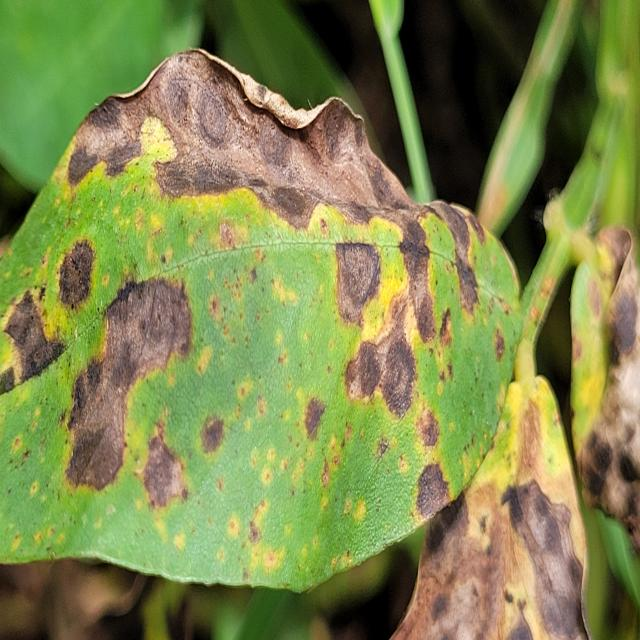Ground nut_tikka leaf spot: (0, 48, 525, 599)
